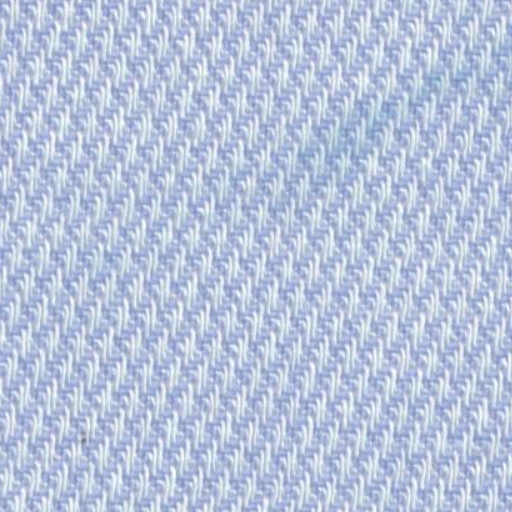WuZi: (294, 42, 498, 219)
